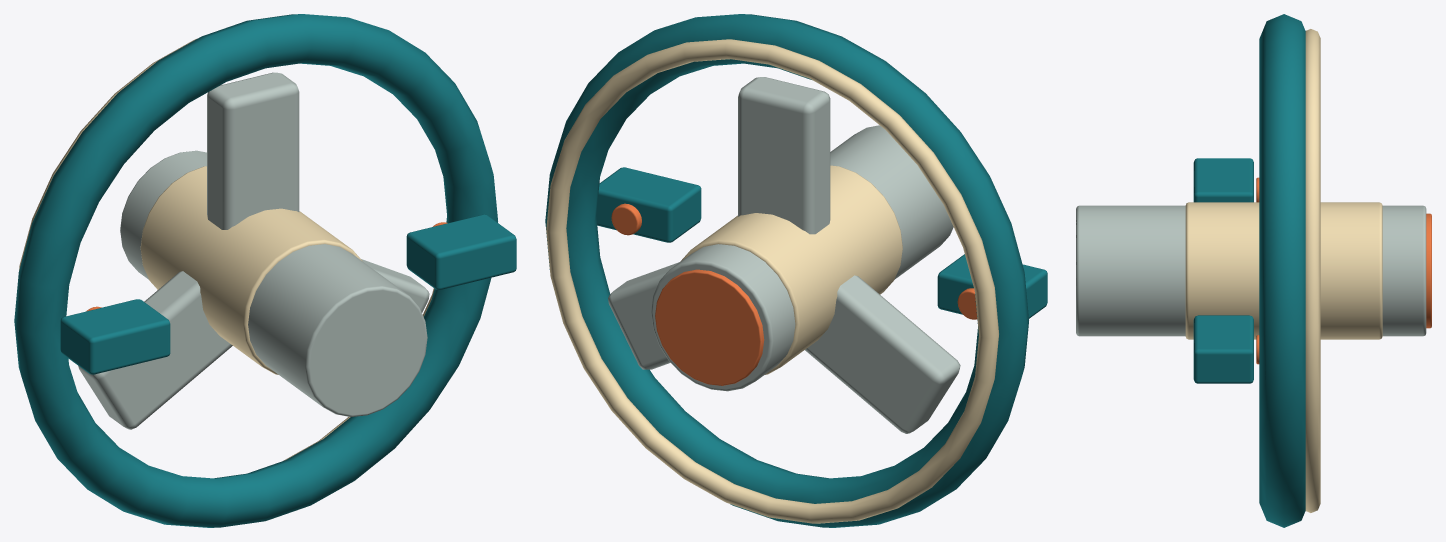
The model's file is propeller-lod-0.glb.
3 views of the same model, side by side, from view 1: azimuth 30°, elevation 25°; view 2: azimuth 150°, elevation 25°; view 3: azimuth 270°, elevation 25° (orthographic). The views are drawn at different scales.
Visible parts, largest first — view 1: voxys_mechanism_static, voxys_propeller_rotor; view 2: voxys_mechanism_static, voxys_propeller_rotor; view 3: voxys_propeller_rotor, voxys_mechanism_static.
Boxes of the visible parts, bbox=[...] form: voxys_mechanism_static: bbox=[14, 14, 516, 527]; voxys_propeller_rotor: bbox=[78, 72, 429, 429]; voxys_mechanism_static: bbox=[545, 14, 1047, 527]; voxys_propeller_rotor: bbox=[608, 77, 960, 433]; voxys_propeller_rotor: bbox=[1076, 202, 1431, 339]; voxys_mechanism_static: bbox=[1193, 14, 1320, 527].
Bounding box in the file's own units: 0.94 × 0.94 × 0.65.
